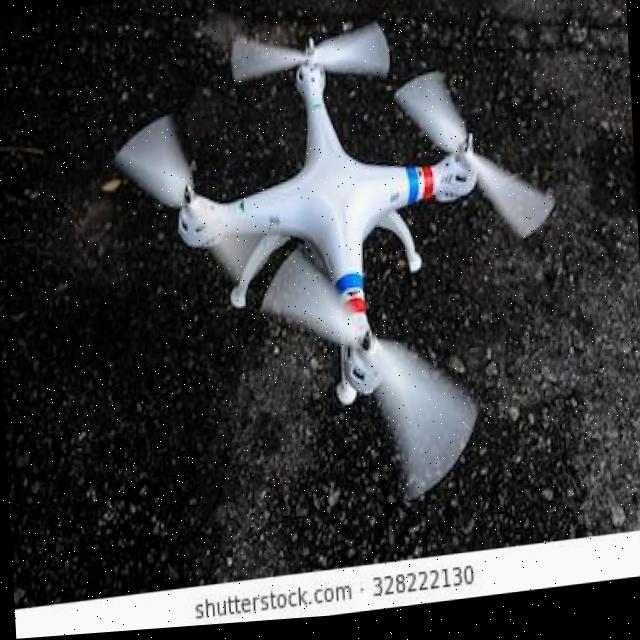drone: (96, 0, 568, 540)
